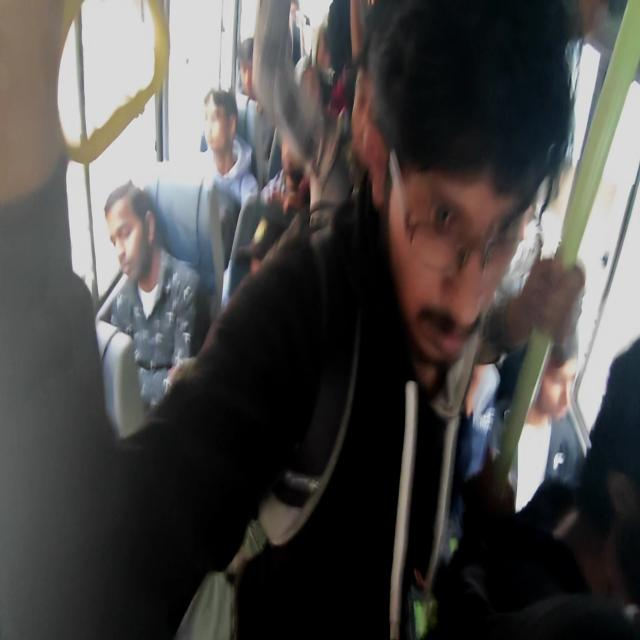person: (380, 72, 549, 386), (544, 340, 636, 634), (103, 180, 155, 290), (241, 215, 286, 331), (539, 332, 583, 444), (203, 87, 238, 155), (236, 36, 255, 103), (280, 138, 304, 177), (316, 29, 333, 72)
